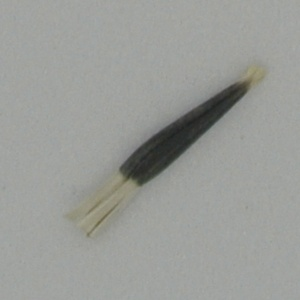เมล็ดดีติดกัน: (62, 59, 266, 244)
